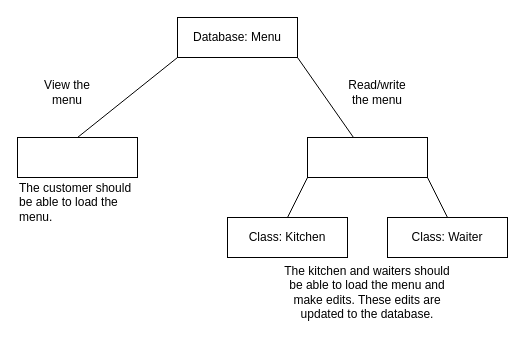
Image size: 525x339. Some labels were removed from this diagram. The box of each missing label's shape, as (x1, y1, x2, y2) in pixels:
Class: Customer: (16, 136, 138, 178)
Class: Staff: (306, 136, 428, 178)
